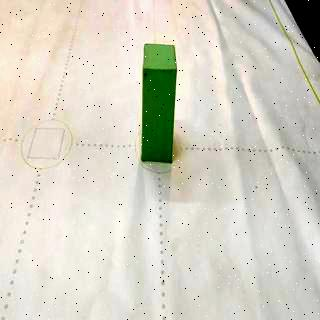greenbox: (140, 41, 178, 166)
